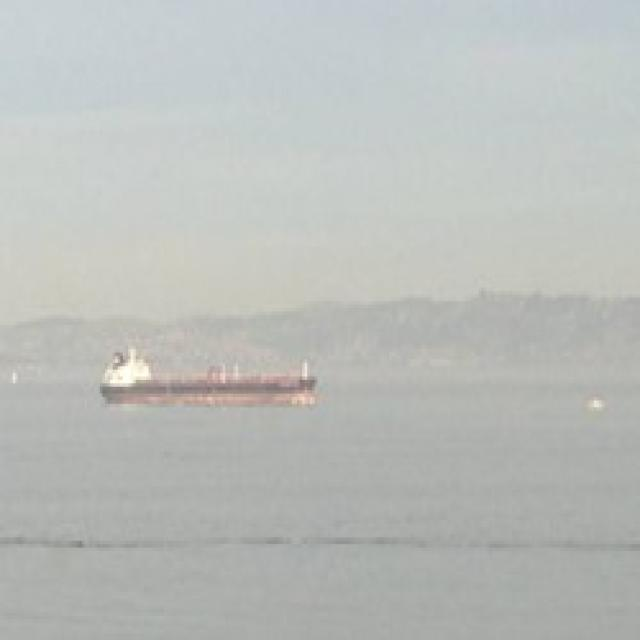cargoship: (99, 329, 322, 406)
